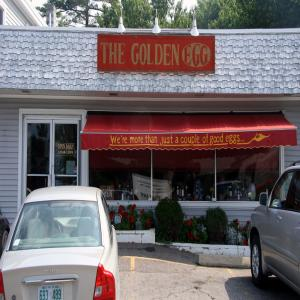Vehicle-registration-plate: (40, 282, 64, 300)
